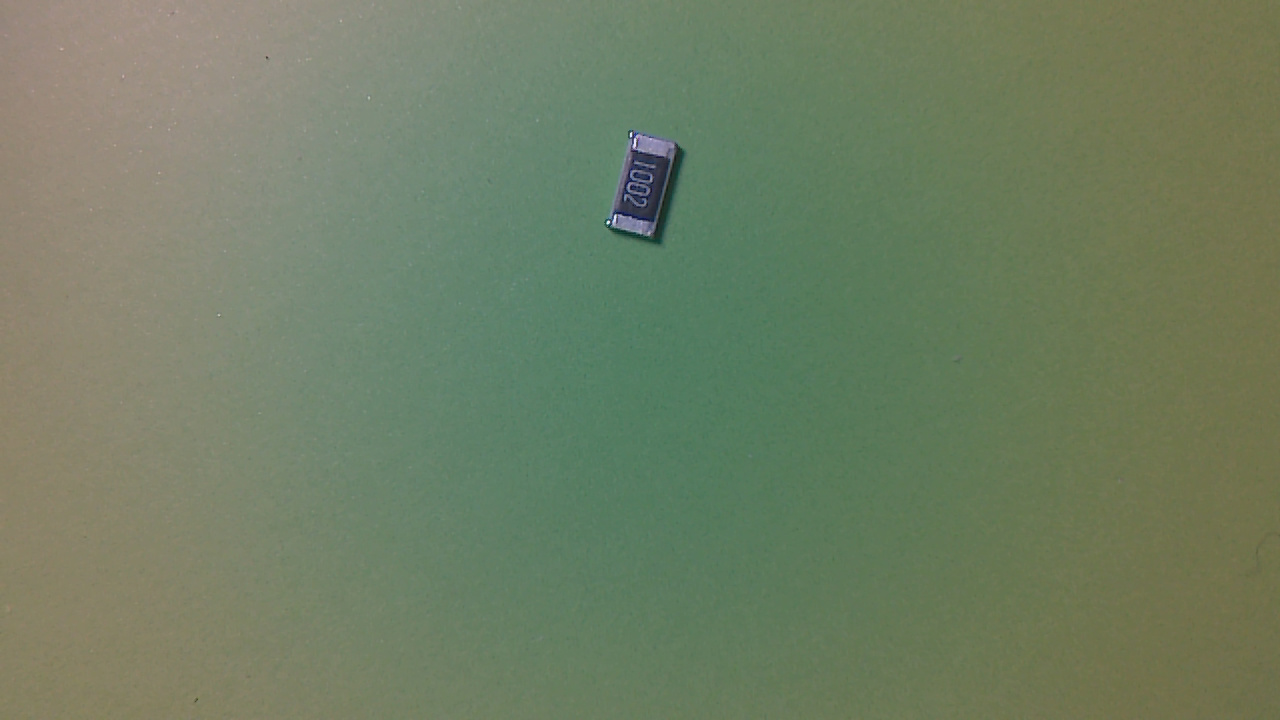Resistor: (604, 132, 692, 254)
